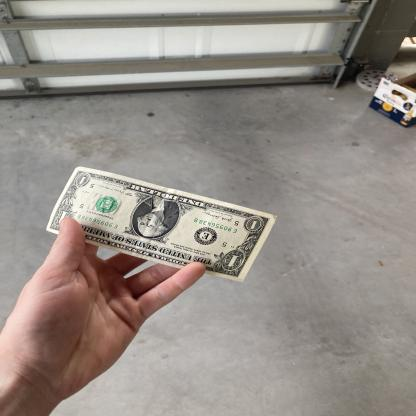one-front: (44, 164, 278, 285)
